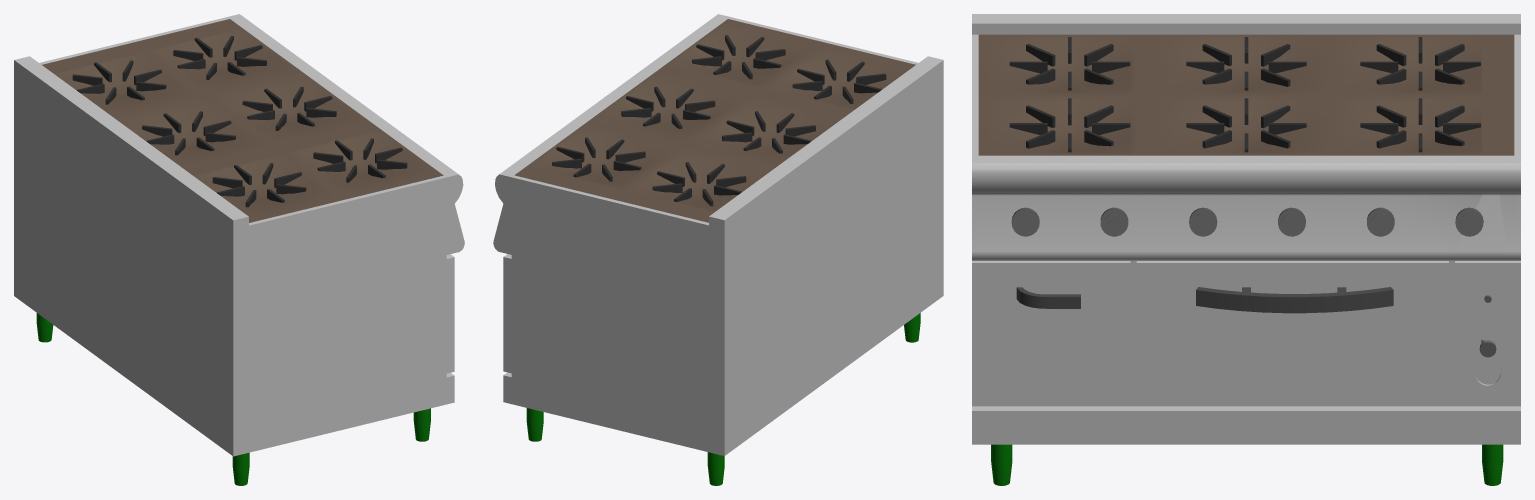
File: Diner_Oven.fbx
The picture shows the model from 3 angles, left to right: view 1: azimuth 30°, elevation 25°; view 2: azimuth 150°, elevation 25°; view 3: azimuth 270°, elevation 25°; orthographic projection. The views are drawn at different scales.
Parts seen in each view (by area): view 1: pCube414; view 2: pCube414; view 3: pCube414.
Boxes of the visible parts, x1,y1,x2,y2 form: pCube414: (14,14,464,485); pCube414: (493,14,943,485); pCube414: (972,14,1520,485).
Bounding box in the file's own units: 4.71 × 5.16 × 7.42.
